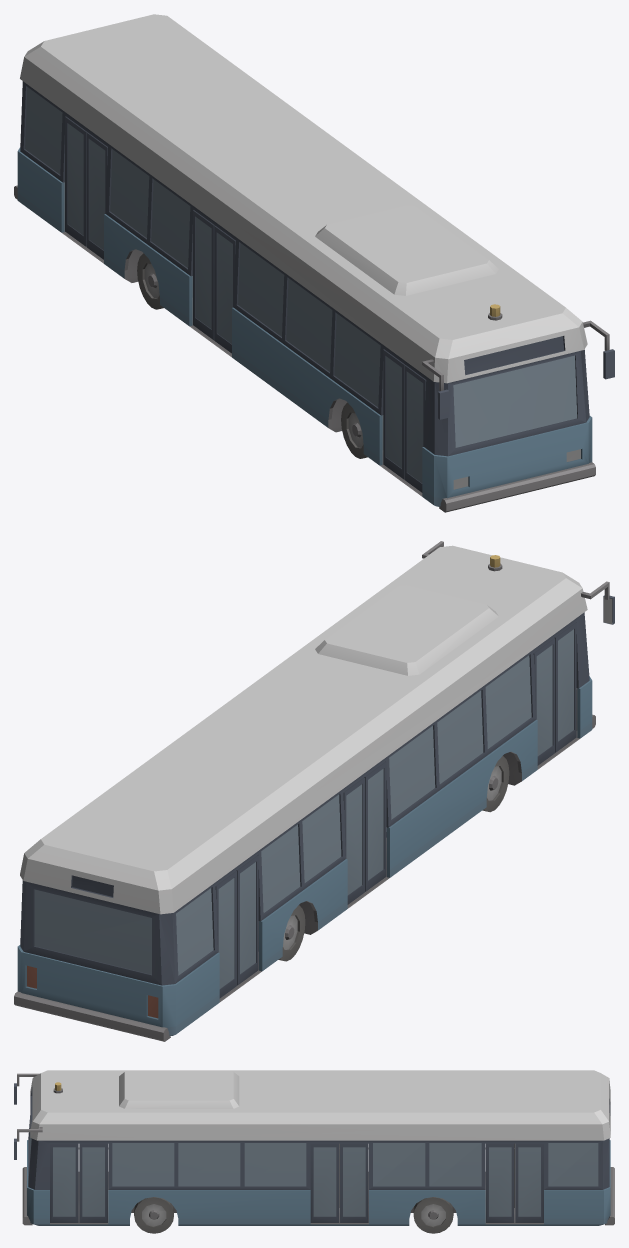
Rendered from bus.glb.
3 views of the same model, one above another, from view 1: azimuth 30°, elevation 25°; view 2: azimuth 150°, elevation 25°; view 3: azimuth 270°, elevation 25° (orthographic). The views are drawn at different scales.
Parts seen in each view (by area): view 1: bus; view 2: bus; view 3: bus.
Boxes of the visible parts, x1,y1,x2,y2 form: bus: [14, 14, 614, 512]; bus: [14, 541, 614, 1041]; bus: [14, 1070, 614, 1233].
Bounding box in the file's own units: 3.32 × 3.35 × 14.41.
